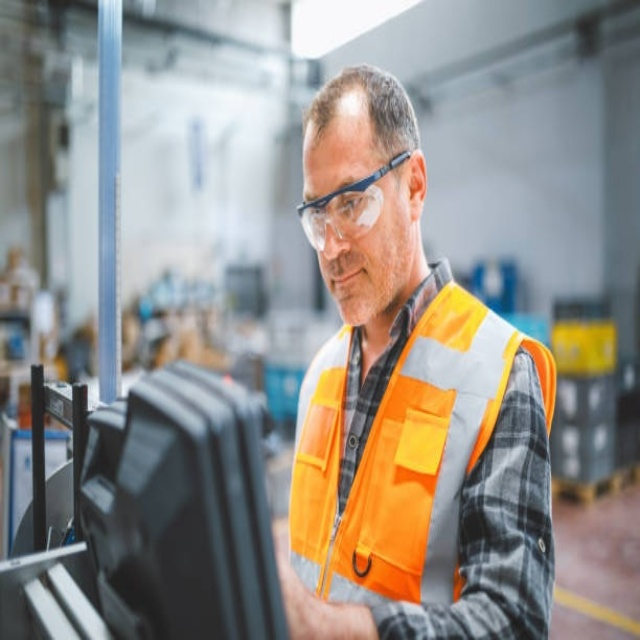Gafas: (296, 153, 410, 252)
Sin_mascara: (326, 260, 382, 318)
